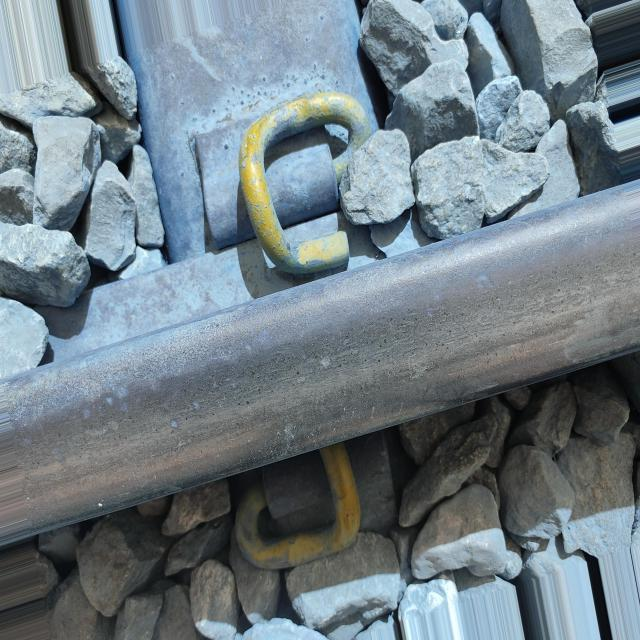Good Fasteners: (195, 92, 414, 273), (233, 428, 399, 569)
